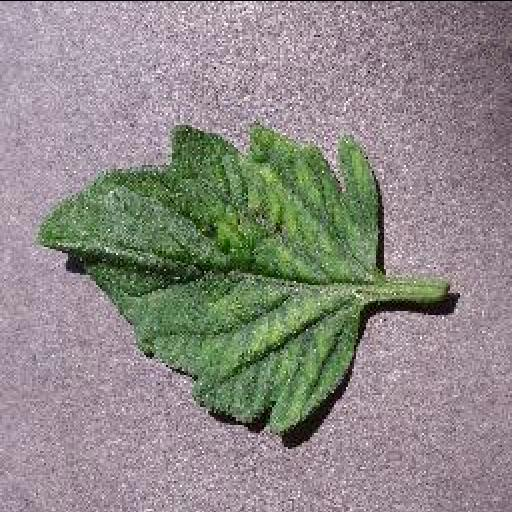Mosaic Virus: (36, 122, 386, 434)
